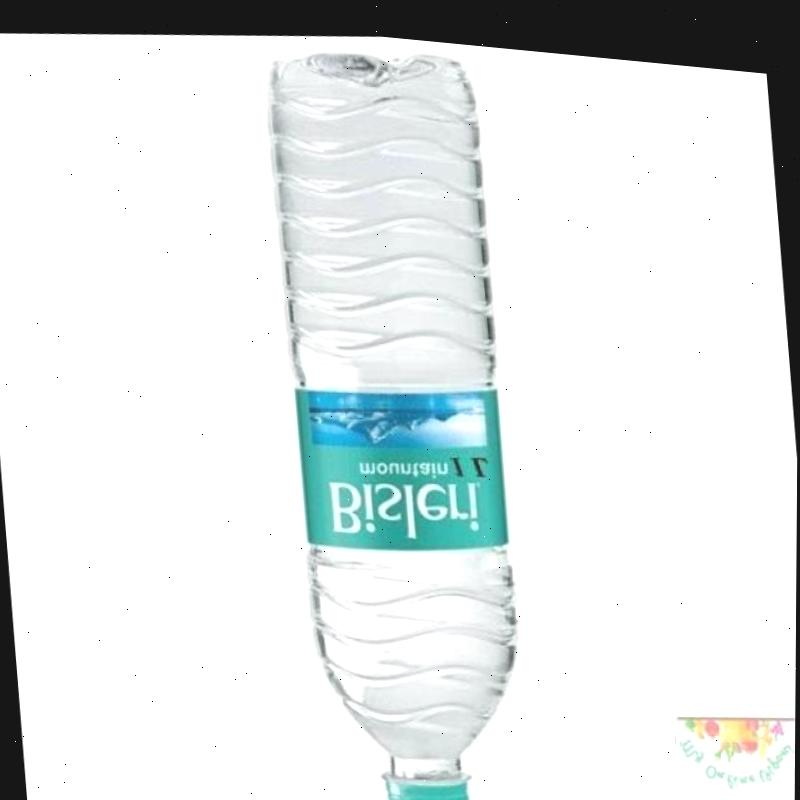botella: (255, 30, 542, 800)
